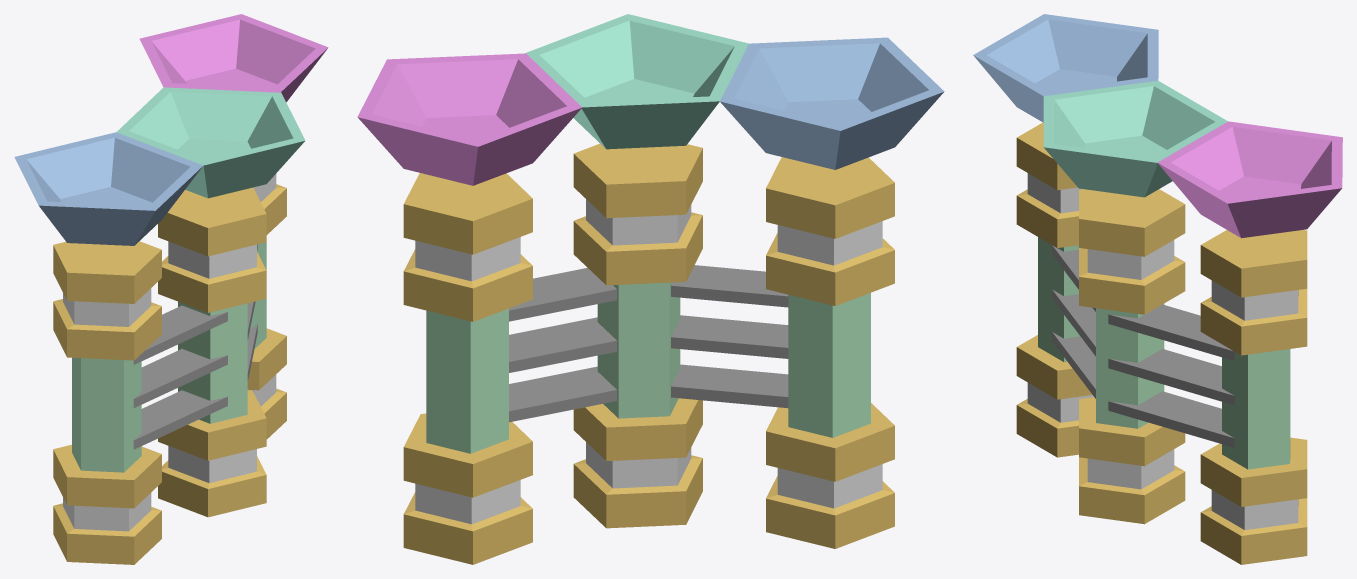
Rendered from skyTable.fbx.
The picture shows the model from 3 angles, left to right: view 1: azimuth 30°, elevation 25°; view 2: azimuth 150°, elevation 25°; view 3: azimuth 270°, elevation 25°; orthographic projection. The views are drawn at different scales.
Visible parts, largest first — view 1: Cylinder.002, Cylinder, Cylinder.008, Cylinder.007, Cylinder.001, Cylinder.005, Cylinder.004, Cylinder.011, Cylinder.010, Cube, Cylinder.003, Cube.001 (+3 smaller); view 2: Cylinder.001, Cylinder.002, Cylinder, Cylinder.006, Cylinder.007, Cylinder.008, Cylinder.003, Cylinder.005, Cylinder.004, Cylinder.009, Cylinder.011, Cylinder.010 (+3 smaller); view 3: Cylinder.001, Cylinder, Cylinder.006, Cylinder.002, Cylinder.007, Cylinder.003, Cylinder.004, Cylinder.009, Cylinder.005, Cylinder.008, Cylinder.010, Cube (+3 smaller).
Boxes of the visible parts, bbox=[...] form: Cylinder.002: bbox=[14, 132, 203, 245]; Cylinder: bbox=[116, 87, 305, 198]; Cylinder.008: bbox=[53, 241, 161, 360]; Cylinder.007: bbox=[158, 187, 266, 312]; Cylinder.001: bbox=[139, 14, 328, 102]; Cylinder.005: bbox=[53, 444, 161, 564]; Cylinder.004: bbox=[158, 390, 266, 517]; Cylinder.011: bbox=[72, 357, 141, 472]; Cylinder.010: bbox=[178, 301, 247, 423]; Cube: bbox=[133, 323, 257, 449]; Cylinder.003: bbox=[247, 328, 286, 439]; Cube.001: bbox=[133, 301, 255, 407]; Cylinder.001: bbox=[357, 53, 582, 185]; Cylinder.002: bbox=[719, 37, 944, 169]; Cylinder: bbox=[524, 14, 748, 149]; Cylinder.006: bbox=[403, 173, 532, 321]; Cylinder.007: bbox=[573, 143, 702, 285]; Cylinder.008: bbox=[766, 157, 894, 305]; Cylinder.003: bbox=[403, 413, 532, 564]; Cylinder.005: bbox=[766, 403, 894, 548]; Cylinder.004: bbox=[573, 398, 702, 528]; Cylinder.009: bbox=[426, 308, 508, 453]; Cylinder.011: bbox=[788, 293, 870, 437]; Cylinder.010: bbox=[597, 282, 680, 418]; Cylinder.001: bbox=[1157, 121, 1342, 238]; Cylinder: bbox=[1043, 80, 1227, 197]; Cylinder.006: bbox=[1200, 230, 1307, 355]; Cylinder.002: bbox=[973, 14, 1158, 122]; Cylinder.007: bbox=[1079, 189, 1185, 314]; Cylinder.003: bbox=[1200, 437, 1307, 564]; Cylinder.004: bbox=[1079, 397, 1185, 524]; Cylinder.009: bbox=[1222, 349, 1290, 469]; Cylinder.005: bbox=[1016, 335, 1093, 457]; Cylinder.008: bbox=[1016, 122, 1081, 247]; Cylinder.010: bbox=[1096, 304, 1164, 428]; Cube: bbox=[1052, 332, 1234, 447].
Size of the model in its own units: 238 by 221 by 196.
